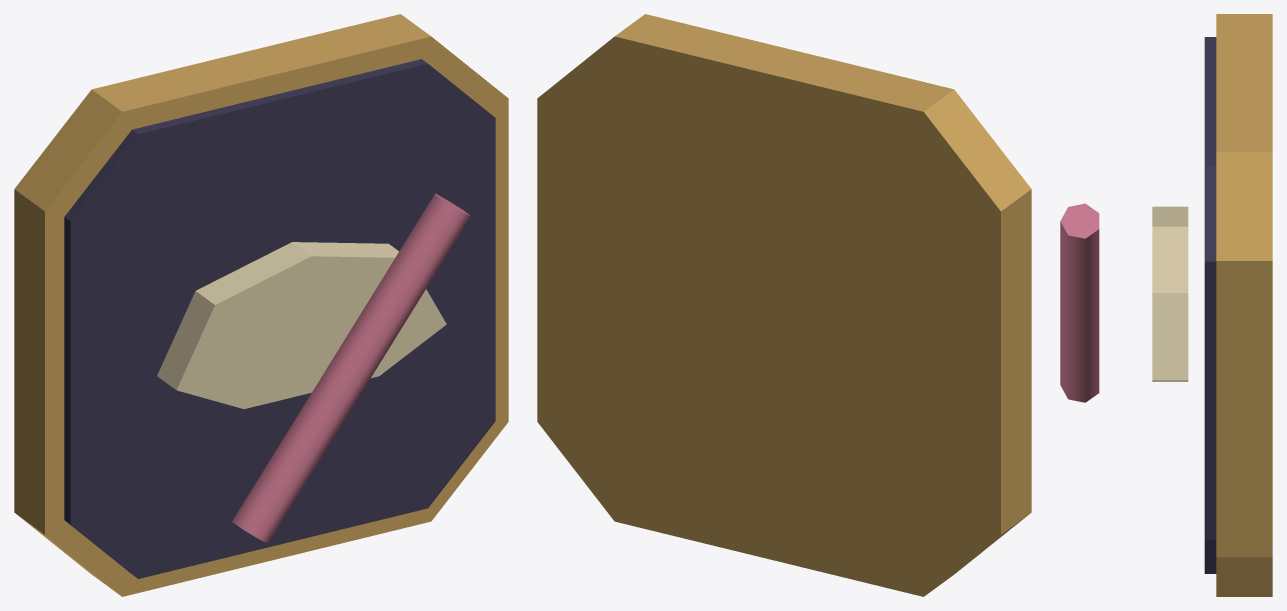
Rendered from silence.fbx.
3 renders of one model, left to right at view 1: azimuth 30°, elevation 25°; view 2: azimuth 150°, elevation 25°; view 3: azimuth 270°, elevation 25°, orthographic. The views are drawn at different scales.
Parts seen in each view (by area): view 1: silence; view 2: silence; view 3: silence.
Part boxes in pixels (box(x1,y1,x2,y2)): silence: box(14, 14, 508, 596); silence: box(537, 14, 1031, 596); silence: box(1060, 14, 1272, 596).
Bounding box in the file's own units: 0.96 × 0.96 × 0.415.
